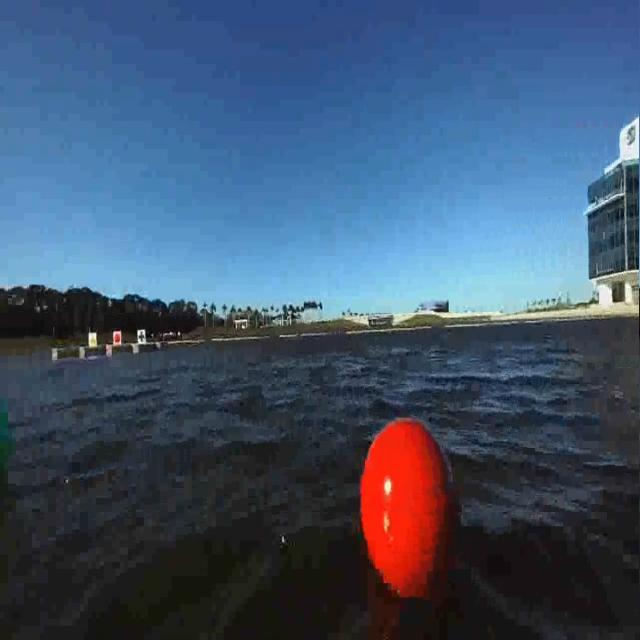green-buoy: (0, 391, 18, 497)
red-buoy: (356, 416, 458, 594)
